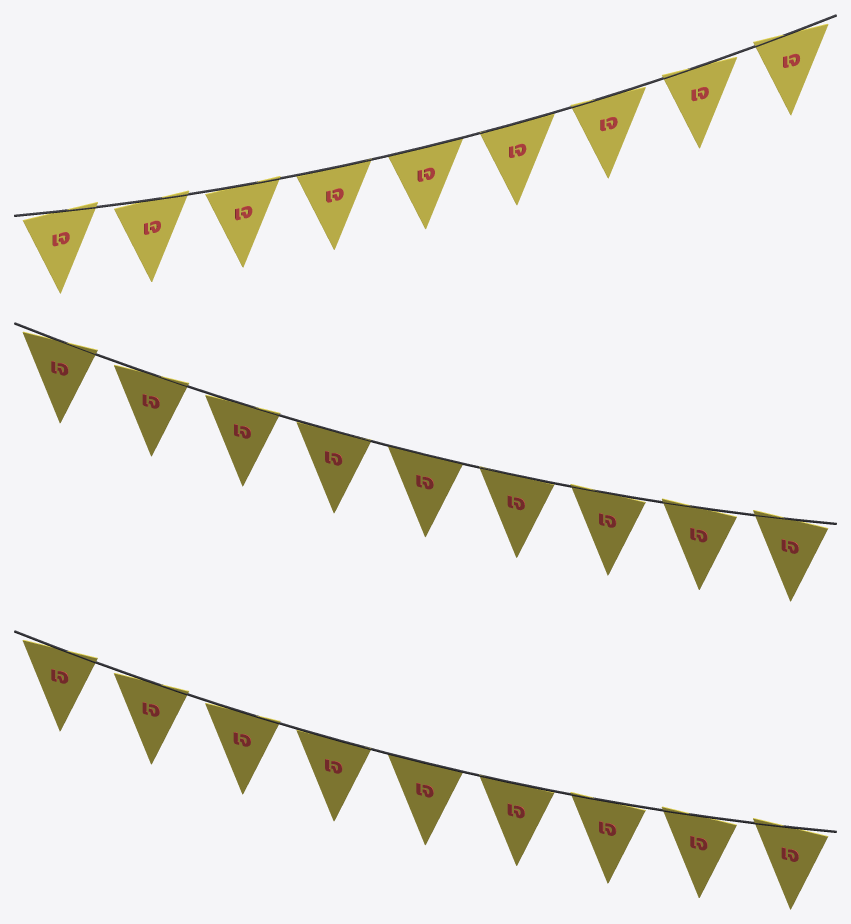
The model's file is SM_JayFlags.fbx.
The picture shows the model from 3 angles, top to bottom: view 1: azimuth 30°, elevation 25°; view 2: azimuth 150°, elevation 25°; view 3: azimuth 330°, elevation 25°; orthographic projection.
Parts seen in each view (by area): view 1: SM_JayFlags; view 2: SM_JayFlags; view 3: SM_JayFlags.
Part boxes in pixels (bbox=[...]): SM_JayFlags: bbox=[14, 14, 836, 293]; SM_JayFlags: bbox=[14, 322, 836, 601]; SM_JayFlags: bbox=[14, 630, 836, 909].
Size of the model in its own units: 4.4 by 0.5857 by 0.016.
